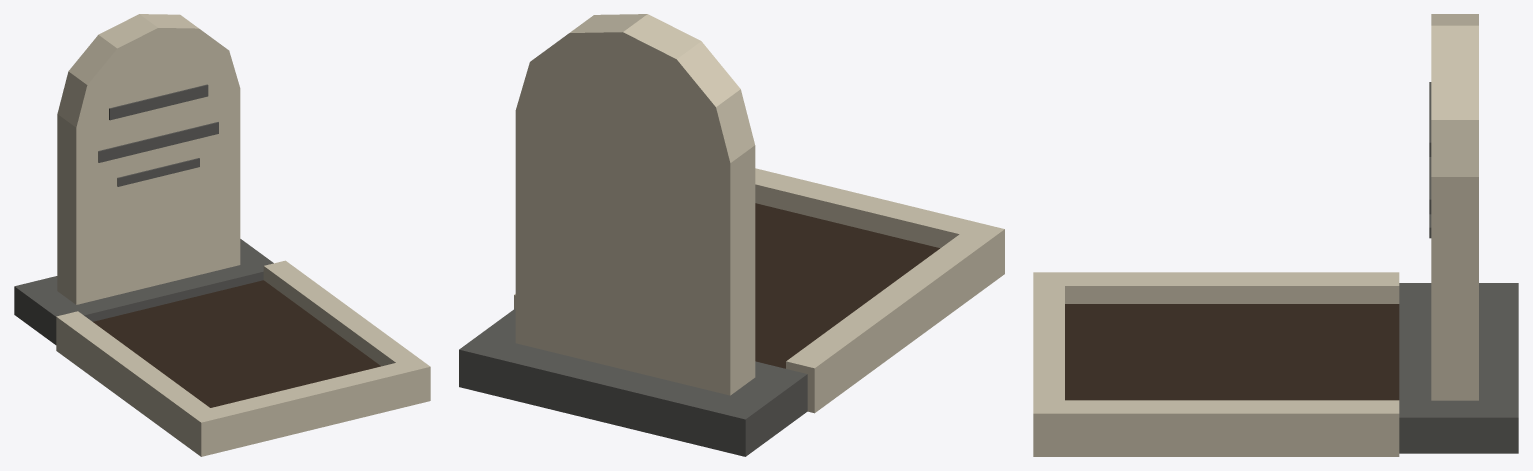
Rendered from gravestone.glb.
The picture shows the model from 3 angles, left to right: view 1: azimuth 30°, elevation 25°; view 2: azimuth 150°, elevation 25°; view 3: azimuth 270°, elevation 25°; orthographic projection. The views are drawn at different scales.
Visible parts, largest first — view 1: gravestone; view 2: gravestone; view 3: gravestone.
Part boxes in pixels (x1=…): gravestone: x1=14, y1=14, x2=430, y2=456; gravestone: x1=459, y1=14, x2=1004, y2=456; gravestone: x1=1033, y1=14, x2=1518, y2=456.
Bounding box in the file's own units: 0.84 × 1 × 1.22.
Materials: 1 (1 with a texture image).
